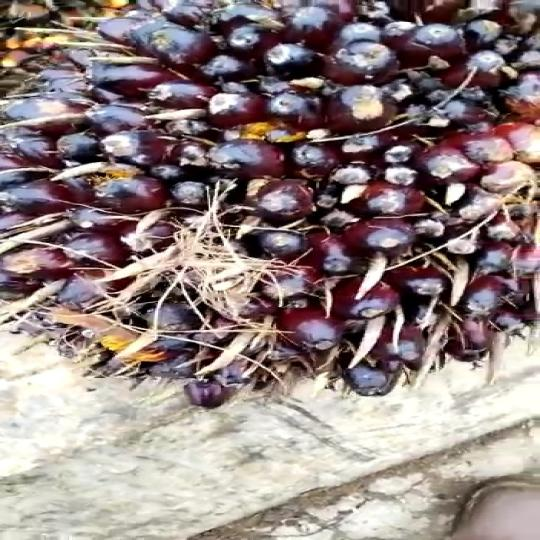kurang masak: (0, 0, 540, 411)
